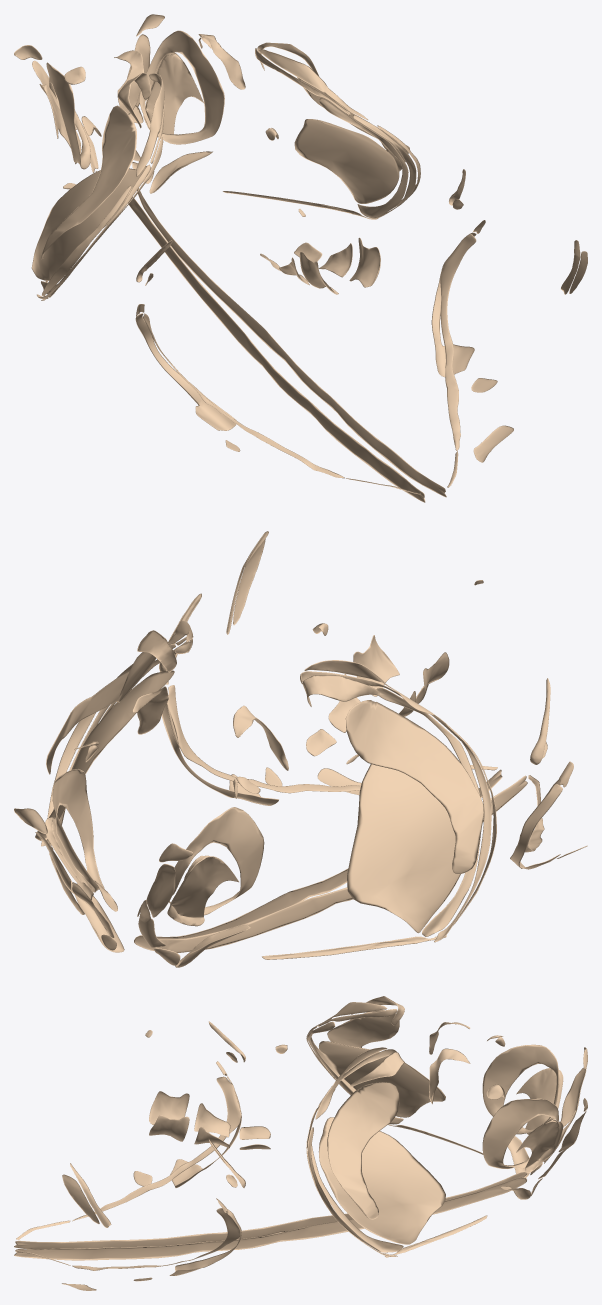
File: abdomen__insertions.fd4a35d470.glb
The picture shows the model from 3 angles, top to bottom: view 1: azimuth 30°, elevation 25°; view 2: azimuth 150°, elevation 25°; view 3: azimuth 270°, elevation 25°; orthographic projection. The views are drawn at different scales.
Parts seen in each view (by area): view 1: Iliacus muscle.ol, Rectus abdominis muscle.er, Iliacus muscle.or, Rectus abdominis muscle.el, Gluteus medius muscle.or, Obturator internus.ol, Diaphragm.ol, Obturator externus.ol, Obturator internus.or, Internal abdominal oblique muscle.o1r, Internal abdominal oblique muscle.o1l, Transversus abdominis muscle.ol (+12 smaller); view 2: Iliacus muscle.or, Gluteus medius muscle.or, Obturator internus.or, Rectus abdominis muscle.er, Obturator internus.ol, Obturator externus.or, Iliacus muscle.ol, Rectus abdominis muscle.el, Gluteus medius muscle.ol, Transversus abdominis muscle.or, Diaphragm.ol, Internal abdominal oblique muscle.o3r (+19 smaller); view 3: Iliacus muscle.ol, Gluteus medius muscle.ol, Rectus abdominis muscle.el, Iliacus muscle.or, Rectus abdominis muscle.er, Obturator internus.ol, Obturator internus.or, Diaphragm.or, Gluteus medius muscle.or, Obturator externus.or, Obturator externus.ol, Diaphragm.ol (+18 smaller).
Part boxes in pixels (x1=…): Iliacus muscle.ol: x1=294, y1=119, x2=399, y2=203; Rectus abdominis muscle.er: x1=128, y1=196, x2=425, y2=502; Iliacus muscle.or: x1=31, y1=168, x2=149, y2=280; Rectus abdominis muscle.el: x1=137, y1=188, x2=446, y2=497; Gluteus medius muscle.or: x1=41, y1=105, x2=136, y2=258; Obturator internus.ol: x1=139, y1=30, x2=224, y2=144; Diaphragm.ol: x1=440, y1=233, x2=476, y2=487; Obturator externus.ol: x1=143, y1=52, x2=203, y2=138; Obturator internus.or: x1=46, y1=62, x2=90, y2=169; Internal abdominal oblique muscle.o1r: x1=135, y1=313, x2=240, y2=451; Internal abdominal oblique muscle.o1l: x1=431, y1=232, x2=497, y2=392; Transversus abdominis muscle.ol: x1=319, y1=98, x2=408, y2=218; Iliacus muscle.or: x1=347, y1=764, x2=460, y2=933; Gluteus medius muscle.or: x1=345, y1=700, x2=483, y2=874; Obturator internus.or: x1=169, y1=807, x2=264, y2=915; Rectus abdominis muscle.er: x1=155, y1=775, x2=527, y2=953; Obturator internus.ol: x1=52, y1=769, x2=104, y2=892; Obturator externus.or: x1=167, y1=855, x2=238, y2=926; Iliacus muscle.ol: x1=35, y1=670, x2=174, y2=840; Rectus abdominis muscle.el: x1=134, y1=769, x2=502, y2=950; Gluteus medius muscle.ol: x1=46, y1=652, x2=156, y2=774; Transversus abdominis muscle.or: x1=376, y1=687, x2=480, y2=936; Diaphragm.ol: x1=167, y1=685, x2=497, y2=793; Internal abdominal oblique muscle.o3r: x1=422, y1=706, x2=491, y2=942; Iliacus muscle.ol: x1=318, y1=1117, x2=445, y2=1244; Gluteus medius muscle.ol: x1=327, y1=1082, x2=399, y2=1219; Rectus abdominis muscle.el: x1=14, y1=1177, x2=526, y2=1260; Iliacus muscle.or: x1=319, y1=1041, x2=445, y2=1117; Rectus abdominis muscle.er: x1=14, y1=1171, x2=526, y2=1249; Obturator internus.ol: x1=482, y1=1098, x2=558, y2=1168; Obturator internus.or: x1=482, y1=1044, x2=558, y2=1134; Diaphragm.or: x1=16, y1=1076, x2=241, y2=1239; Gluteus medius muscle.or: x1=327, y1=1010, x2=399, y2=1047; Obturator externus.or: x1=516, y1=1068, x2=563, y2=1134; Obturator externus.ol: x1=516, y1=1119, x2=563, y2=1173; Diaphragm.ol: x1=16, y1=1208, x2=241, y2=1270.
Bounding box in the file's own units: 258 × 188 × 424.
